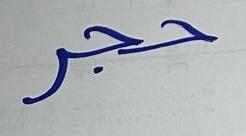hah: (150, 16, 221, 50)
jeem: (71, 23, 147, 76)
reh: (15, 46, 70, 105)
